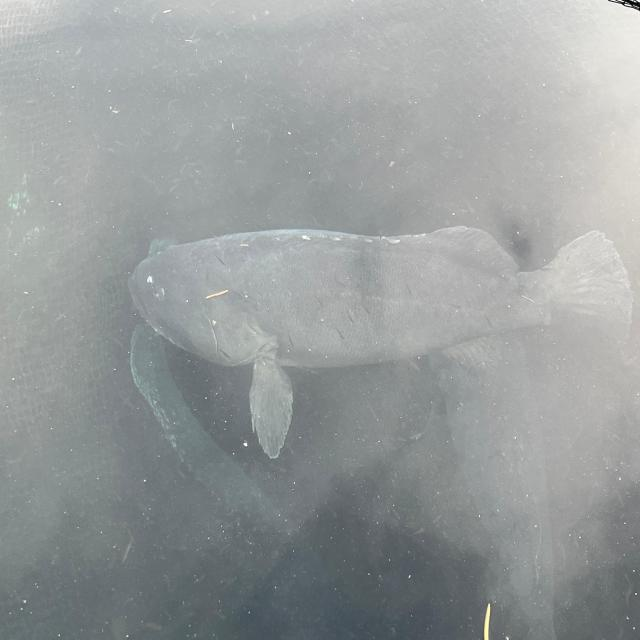ikan: (127, 222, 634, 460)
